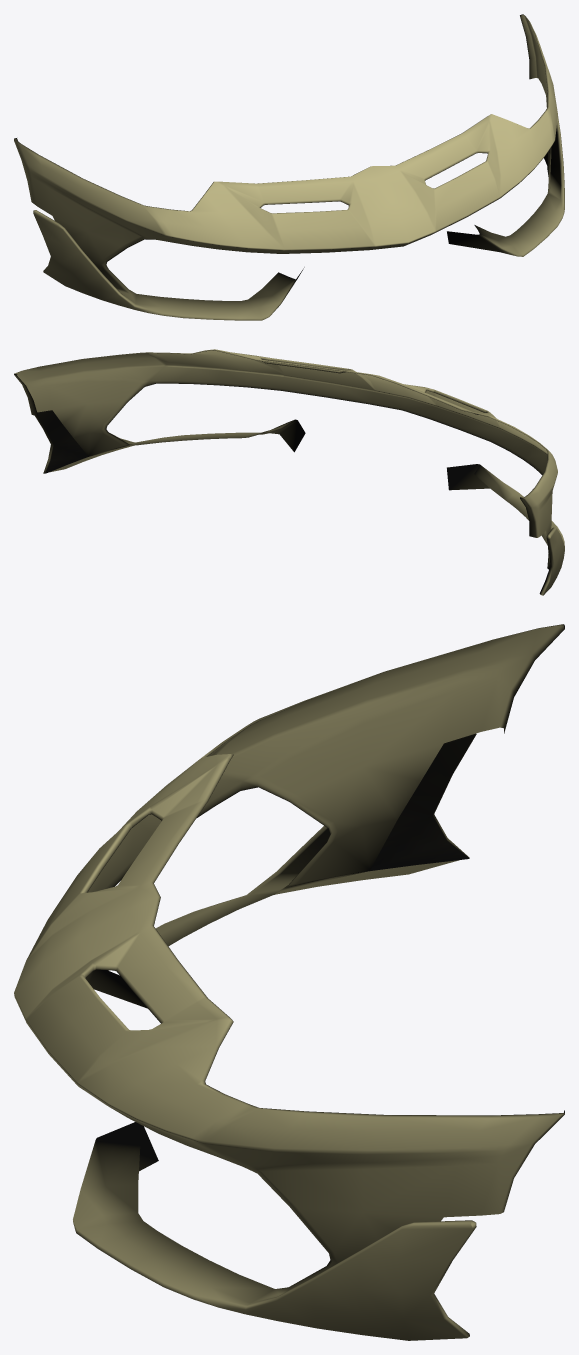
File: Aventador_FB_Duco.fbx
3 renders of one model, top to bottom at view 1: azimuth 30°, elevation 25°; view 2: azimuth 150°, elevation 25°; view 3: azimuth 270°, elevation 25°, orthographic. The views are drawn at different scales.
Parts seen in each view (by area): view 1: Aventador_FB_Duco; view 2: Aventador_FB_Duco; view 3: Aventador_FB_Duco.
Part boxes in pixels (bbox=[...]): Aventador_FB_Duco: bbox=[14, 14, 564, 320]; Aventador_FB_Duco: bbox=[14, 349, 564, 595]; Aventador_FB_Duco: bbox=[14, 624, 564, 1340].
Size of the model in its own units: 199 by 44.71 by 93.33.
